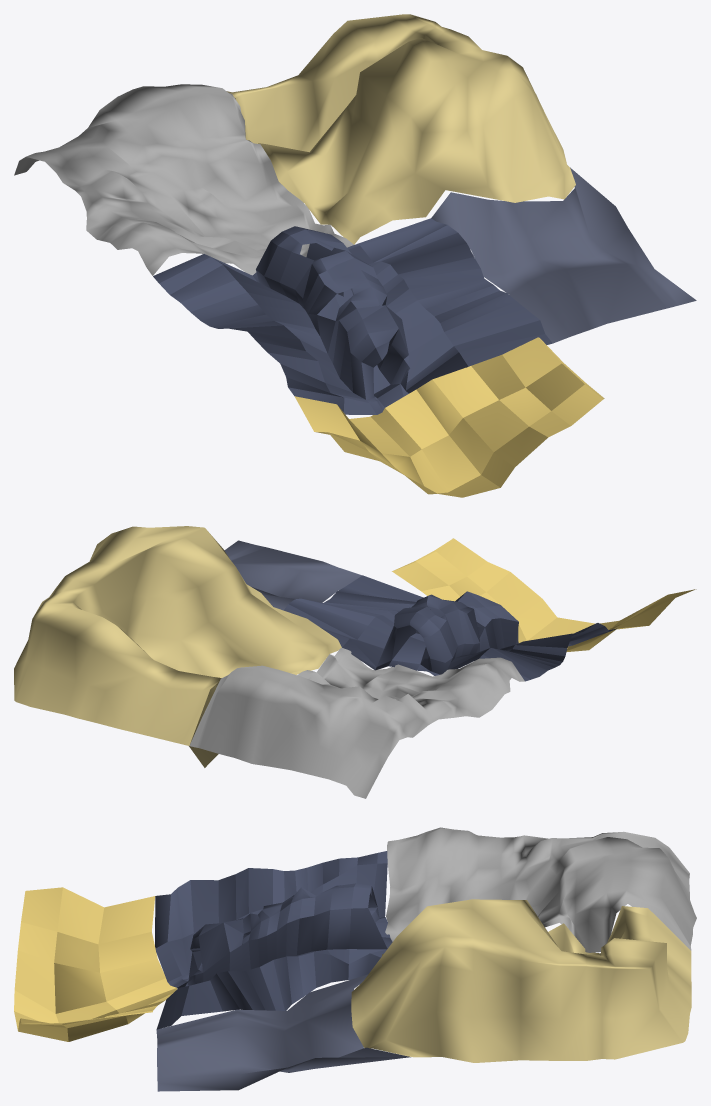
Rendered from low_poly_terain (1).fbx.
3 views of the same model, one above another, from view 1: azimuth 30°, elevation 25°; view 2: azimuth 150°, elevation 25°; view 3: azimuth 270°, elevation 25° (orthographic). The views are drawn at different scales.
Parts seen in each view (by area): view 1: polySurface261, polySurface262, polySurface260, polySurface256, polySurface263; view 2: polySurface261, polySurface260, polySurface262, polySurface256, polySurface263; view 3: polySurface261, polySurface262, polySurface260, polySurface256, polySurface263.
Part boxes in pixels (x1=…): polySurface261: x1=226, y1=14, x2=604, y2=399; polySurface262: x1=153, y1=218, x2=552, y2=414; polySurface260: x1=14, y1=84, x2=353, y2=275; polySurface256: x1=294, y1=337, x2=603, y2=497; polySurface263: x1=431, y1=167, x2=696, y2=343; polySurface261: x1=14, y1=526, x2=454, y2=767; polySurface260: x1=189, y1=648, x2=524, y2=798; polySurface262: x1=284, y1=575, x2=617, y2=681; polySurface256: x1=392, y1=539, x2=696, y2=652; polySurface263: x1=224, y1=540, x2=361, y2=610; polySurface261: x1=351, y1=899, x2=691, y2=1062; polySurface262: x1=155, y1=851, x2=392, y2=1029; polySurface260: x1=385, y1=827, x2=696, y2=952; polySurface256: x1=14, y1=887, x2=177, y2=1041; polySurface263: x1=156, y1=974, x2=410, y2=1091.
Size of the model in its own units: 31579 by 15338 by 42279.
